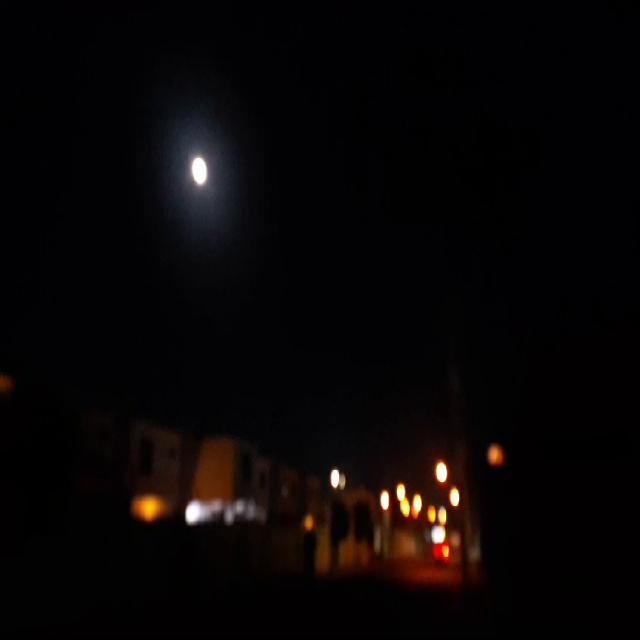moon: (189, 153, 210, 191)
